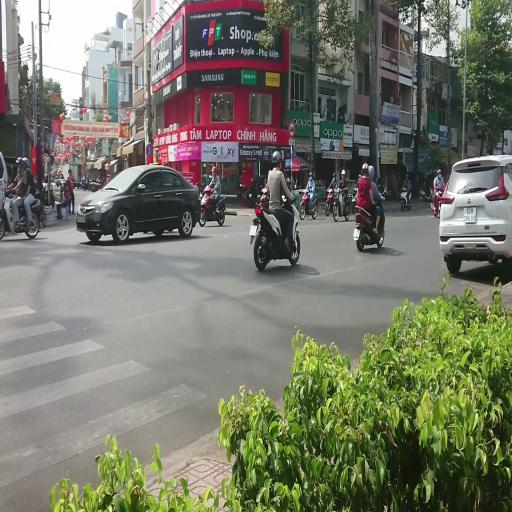bikes: (249, 193, 300, 271), (0, 186, 40, 239), (353, 188, 386, 251), (198, 187, 226, 226), (31, 188, 47, 229), (298, 188, 318, 220), (333, 187, 350, 221), (242, 178, 258, 207), (430, 185, 444, 217), (400, 187, 412, 211), (89, 176, 106, 192), (325, 187, 334, 216), (377, 184, 391, 200), (419, 187, 433, 202), (351, 186, 358, 214), (59, 179, 68, 200), (237, 182, 248, 198)
helmet: (272, 151, 282, 164), (368, 166, 374, 180), (22, 156, 29, 167), (15, 156, 23, 165), (362, 162, 368, 173), (211, 166, 216, 173), (341, 169, 346, 175), (437, 169, 441, 175), (68, 168, 72, 174), (251, 178, 255, 184), (264, 178, 267, 185), (332, 173, 336, 178), (358, 173, 362, 178), (309, 172, 312, 178), (406, 174, 408, 179)
